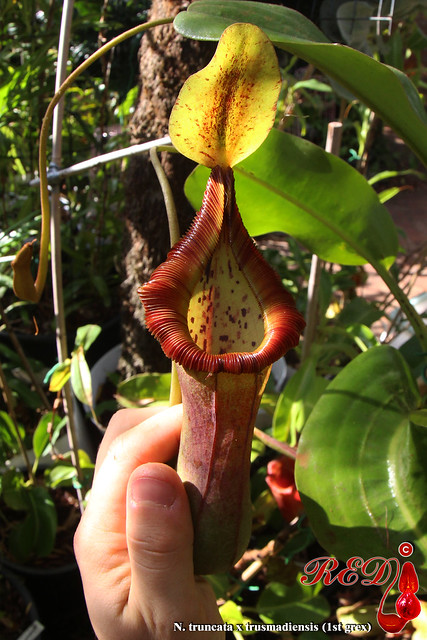truncata: (97, 10, 342, 596)
